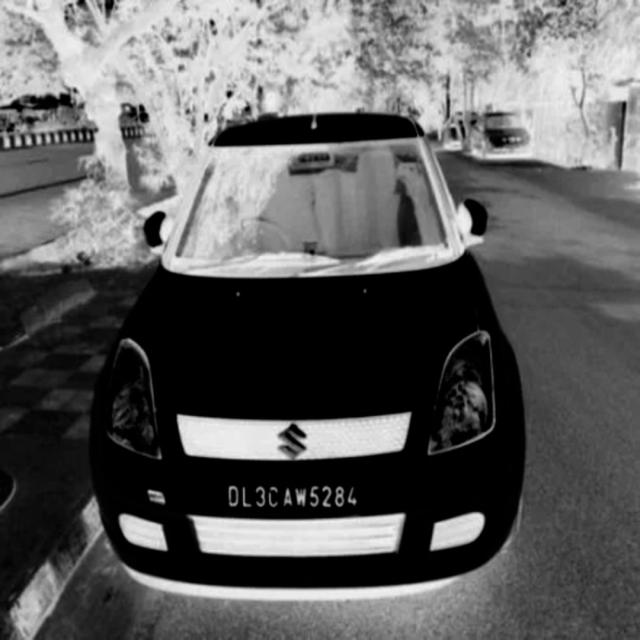Non_registered: (212, 468, 369, 519)
